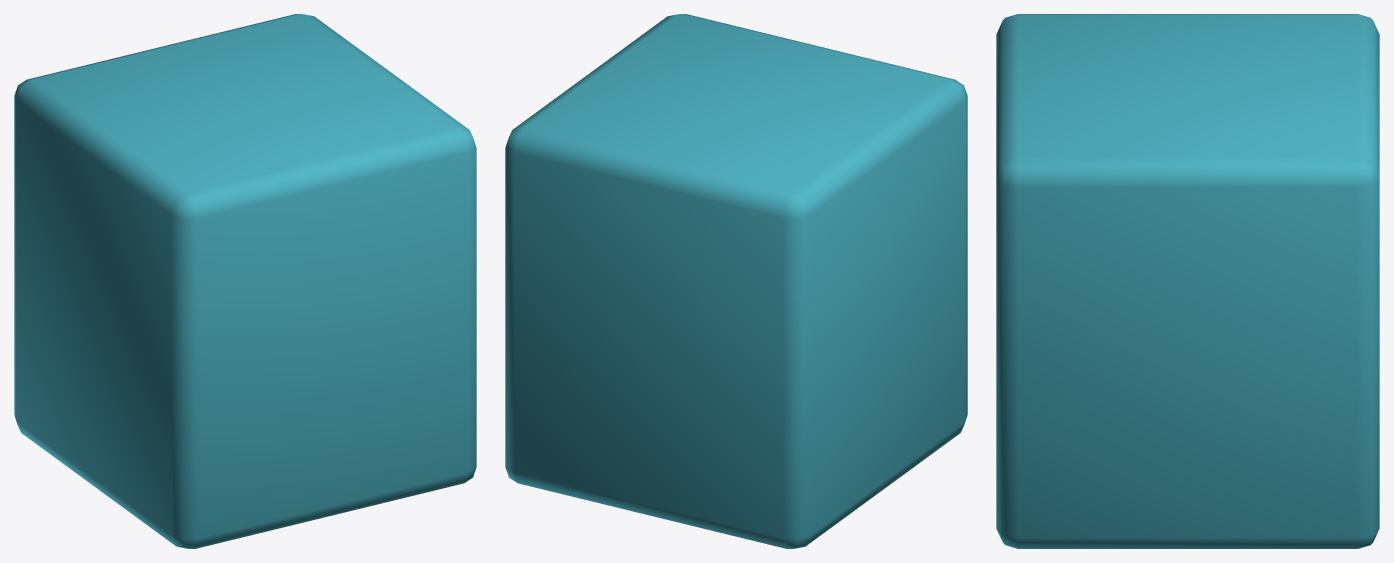
File: Cube_let.fbx
3 views of the same model, side by side, from view 1: azimuth 30°, elevation 25°; view 2: azimuth 150°, elevation 25°; view 3: azimuth 270°, elevation 25° (orthographic). The views are drawn at different scales.
Visible parts, largest first — view 1: Cube_let; view 2: Cube_let; view 3: Cube_let.
Boxes of the visible parts, bbox=[...] form: Cube_let: bbox=[14, 14, 476, 548]; Cube_let: bbox=[505, 14, 967, 548]; Cube_let: bbox=[996, 14, 1379, 548].
Size of the model in its own units: 1.57 by 1.76 by 1.57.
